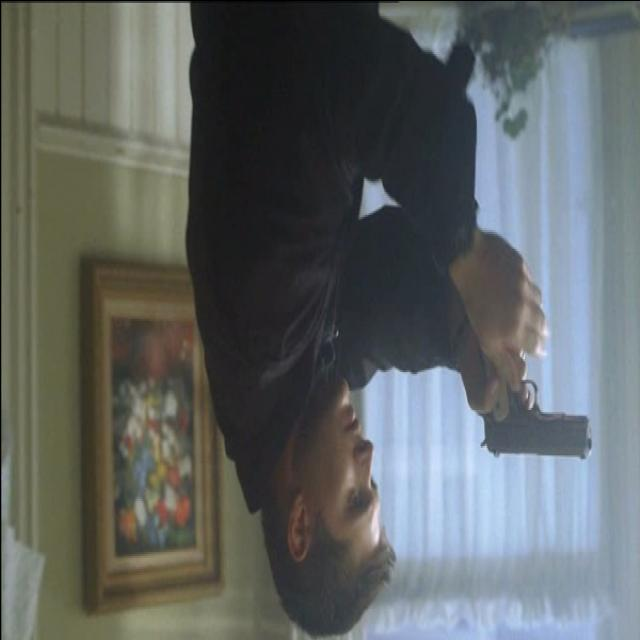weapons: (467, 326, 602, 489)
